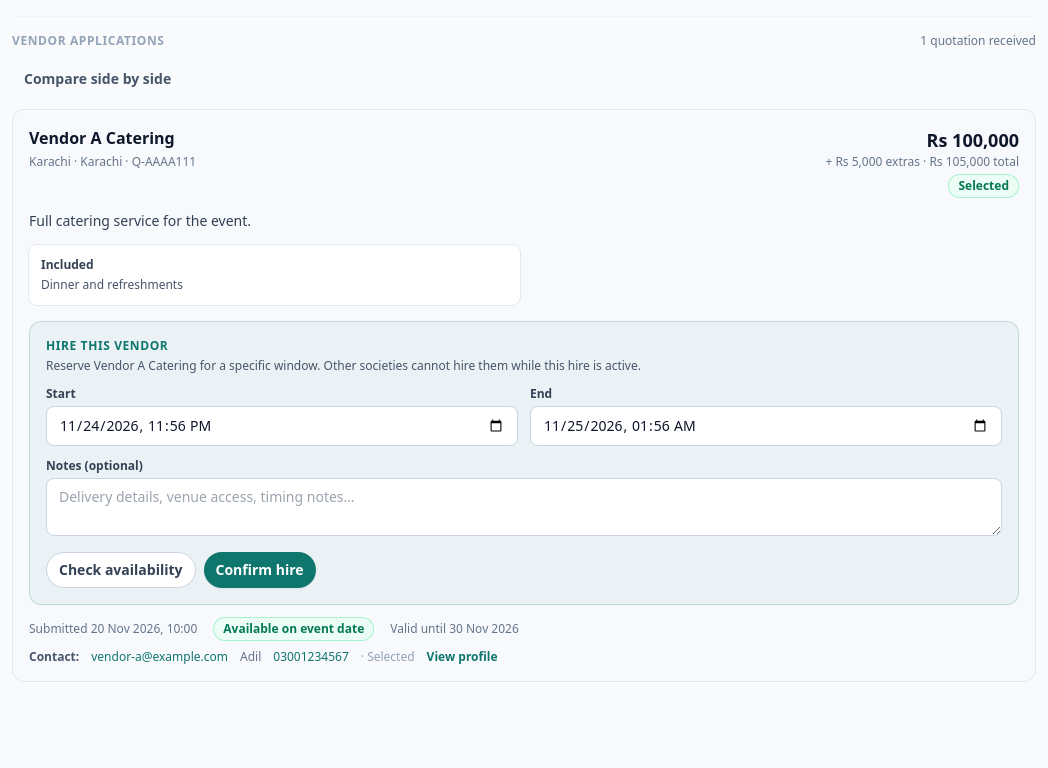
Test case: RequestApplications › checks availability and creates a hire for the selected quotation
Later steps or results of the test are not shown.
expect the text "Hire this vendor" is shown: met, box [46,337,168,354]
Click the button "Check availability" at (121, 570), box [46,552,196,588]
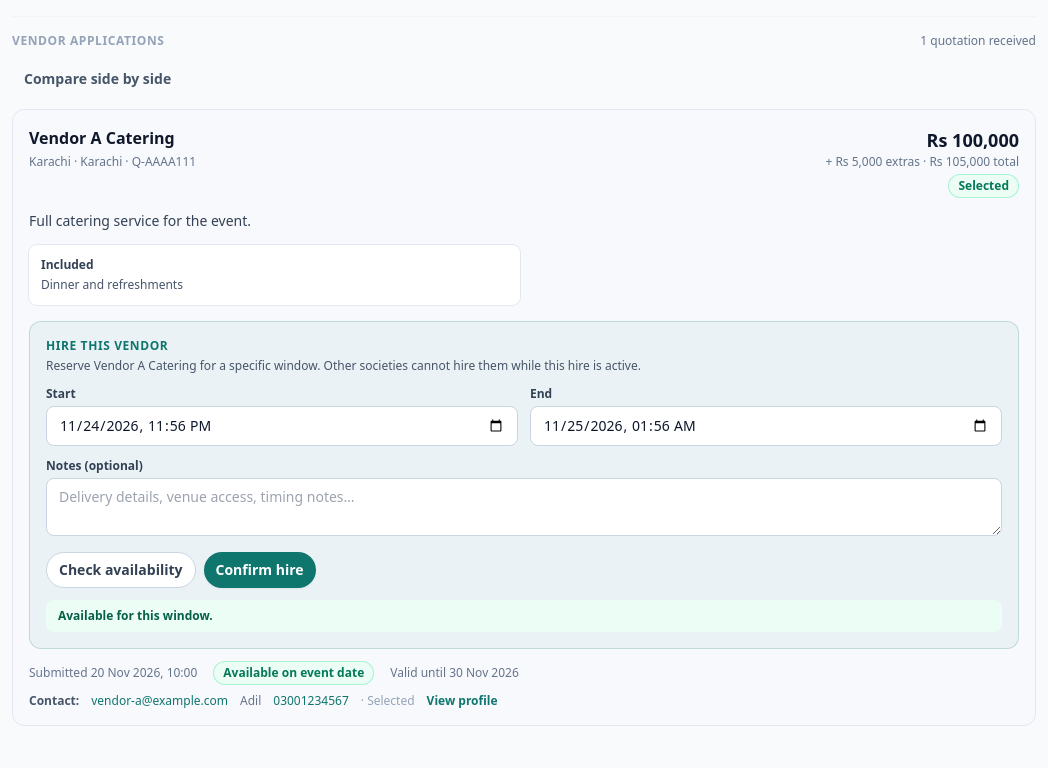
expect the text "Available for this window." is shown: met, box [58,607,213,624]
